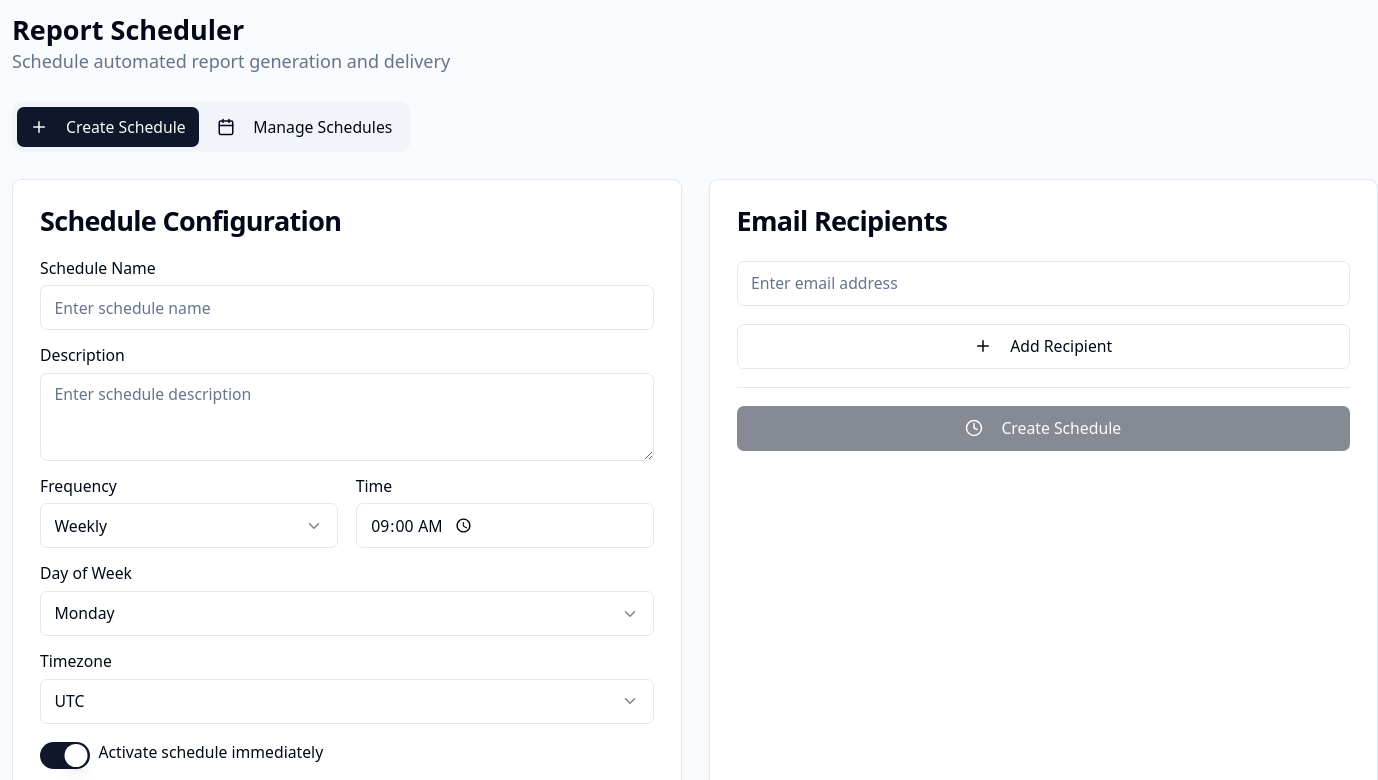
Test: ReportScheduler › loads and displays scheduled reports in manage tab
Note: Switch to manage tab
Click the button "Manage Schedules": click(305, 127) [204,106,406,147]
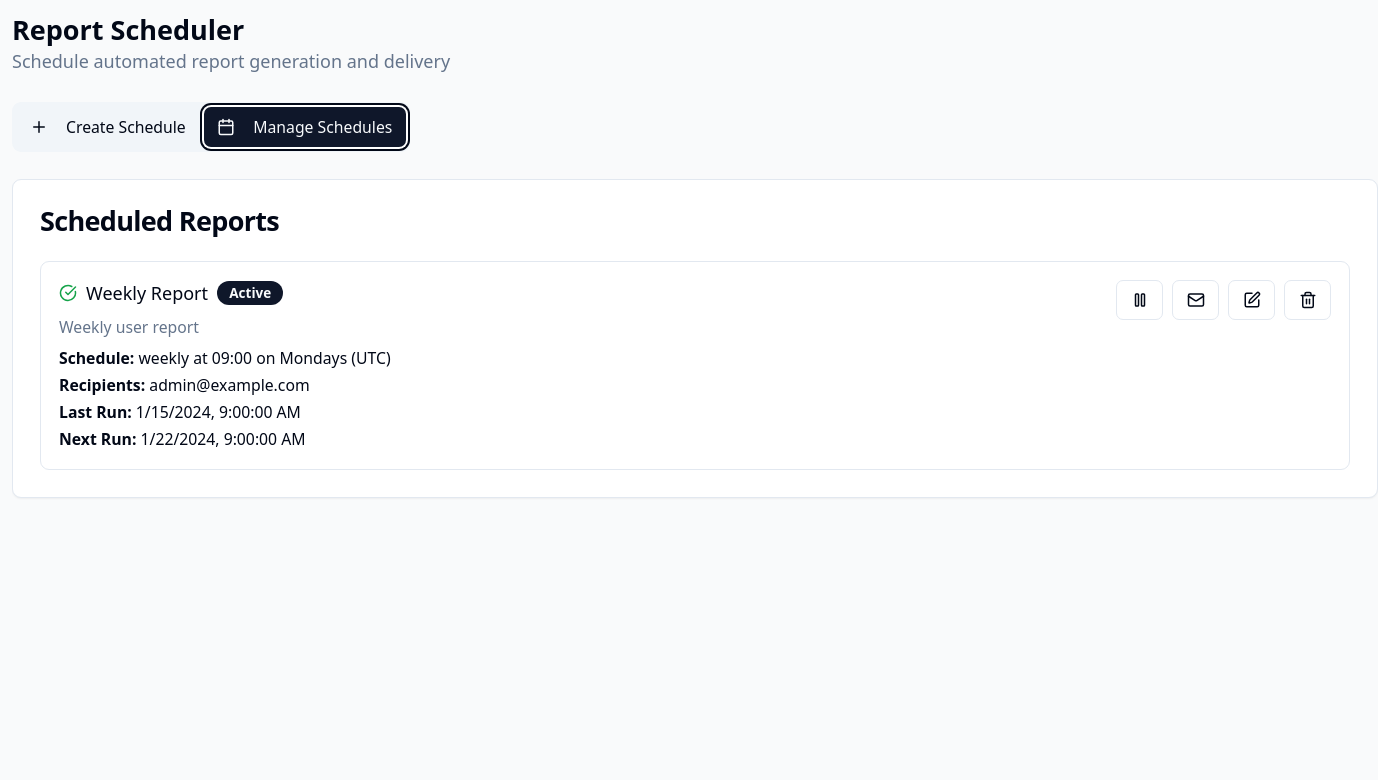
Check: the heading "Weekly Report" is shown, box [86,280,208,306]
Check: the text "Weekly user report" is shown, box [59,316,199,338]
Check: the text "admin@example.com" is shown, box [149,374,310,396]
